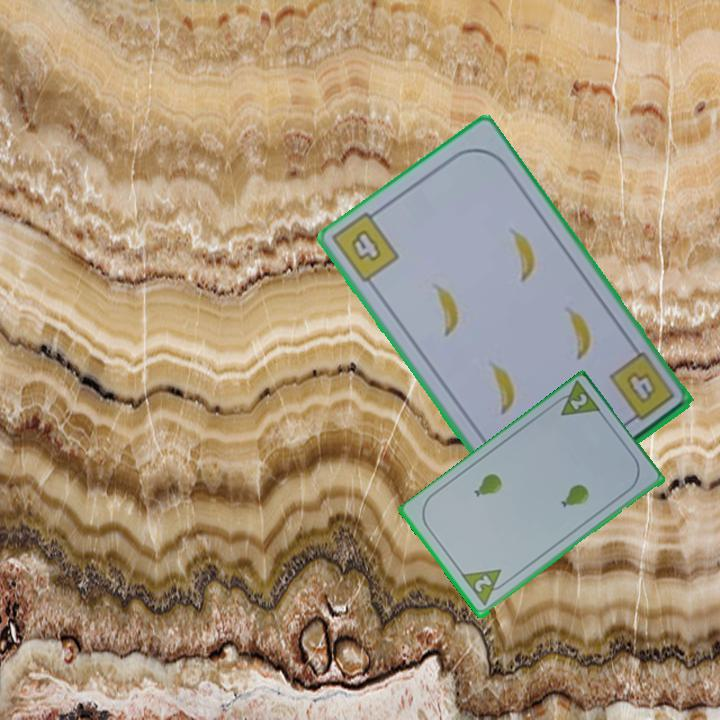2p: (470, 572, 495, 596), (566, 390, 590, 413)
4b: (605, 349, 678, 429), (346, 225, 384, 265)
